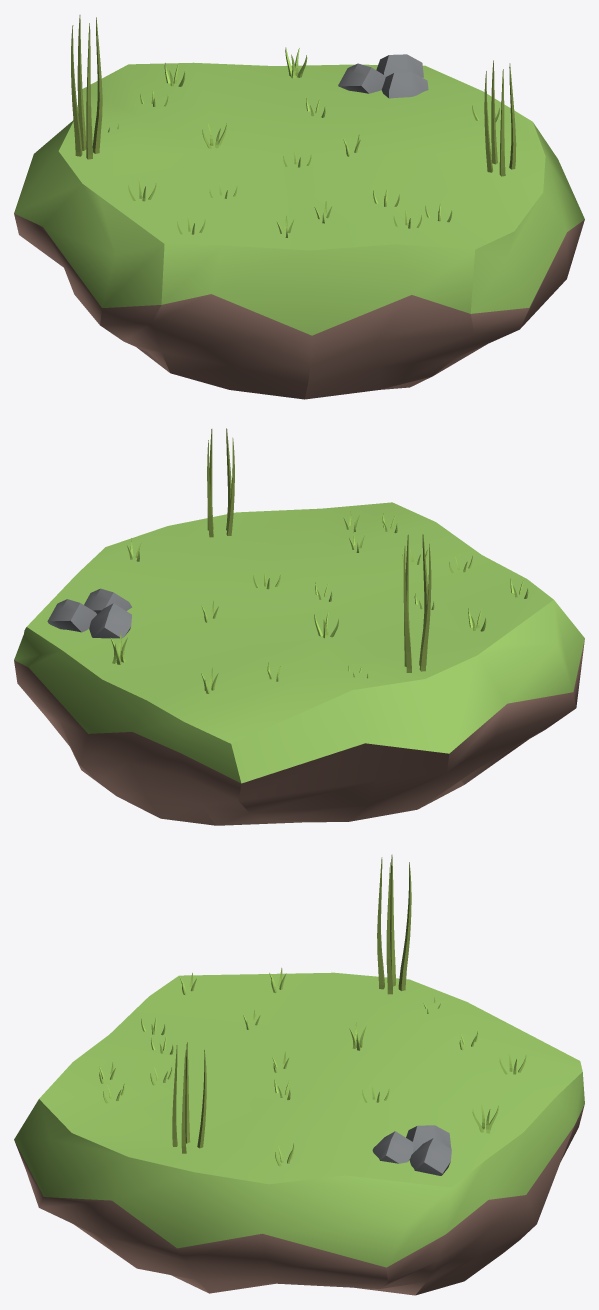
Rendered from small_island.fbx.
3 renders of one model, top to bottom at view 1: azimuth 30°, elevation 25°; view 2: azimuth 150°, elevation 25°; view 3: azimuth 270°, elevation 25°, orthographic. The views are drawn at different scales.
Parts seen in each view (by area): view 1: Island_Spring_1.001; view 2: Island_Spring_1.001; view 3: Island_Spring_1.001.
Part boxes in pixels (x1=…): Island_Spring_1.001: x1=14, y1=15, x2=584, y2=399; Island_Spring_1.001: x1=14, y1=428, x2=584, y2=825; Island_Spring_1.001: x1=14, y1=854, x2=584, y2=1295.
Bounding box in the file's own units: 228 × 157 × 241.
